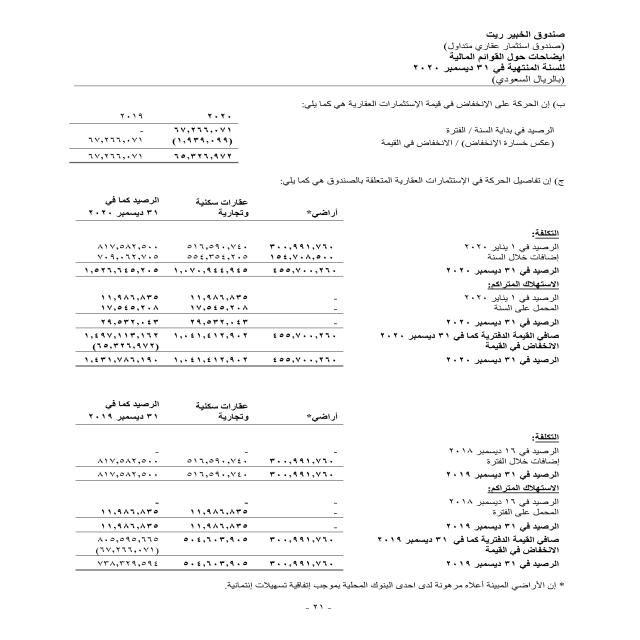notes: (431, 50, 571, 61)
table: (45, 391, 352, 588), (52, 190, 362, 370), (43, 104, 245, 170)
